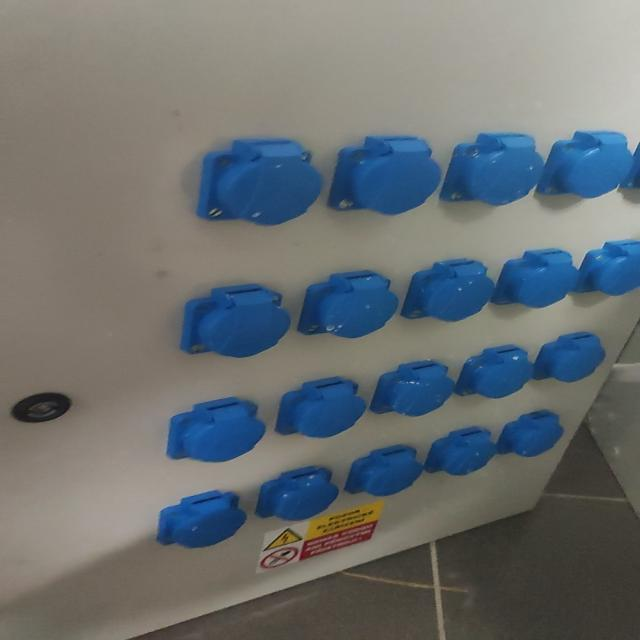house plug covered: (194, 139, 323, 229), (332, 137, 444, 218), (180, 286, 290, 360), (439, 132, 542, 207), (296, 270, 399, 339), (165, 397, 266, 464), (537, 130, 633, 199), (401, 259, 495, 323), (276, 376, 366, 439), (155, 491, 247, 551), (491, 248, 578, 309), (254, 465, 340, 522), (369, 361, 455, 417), (454, 344, 532, 399), (344, 445, 423, 497), (572, 239, 640, 297), (424, 426, 497, 476), (536, 332, 606, 383), (500, 414, 562, 457)
